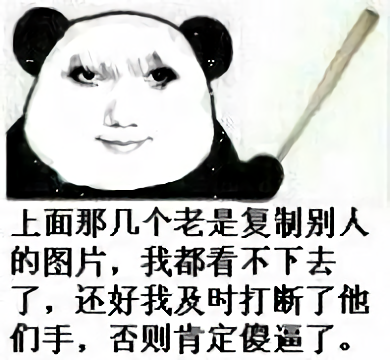dragon: (63, 54, 184, 153)
